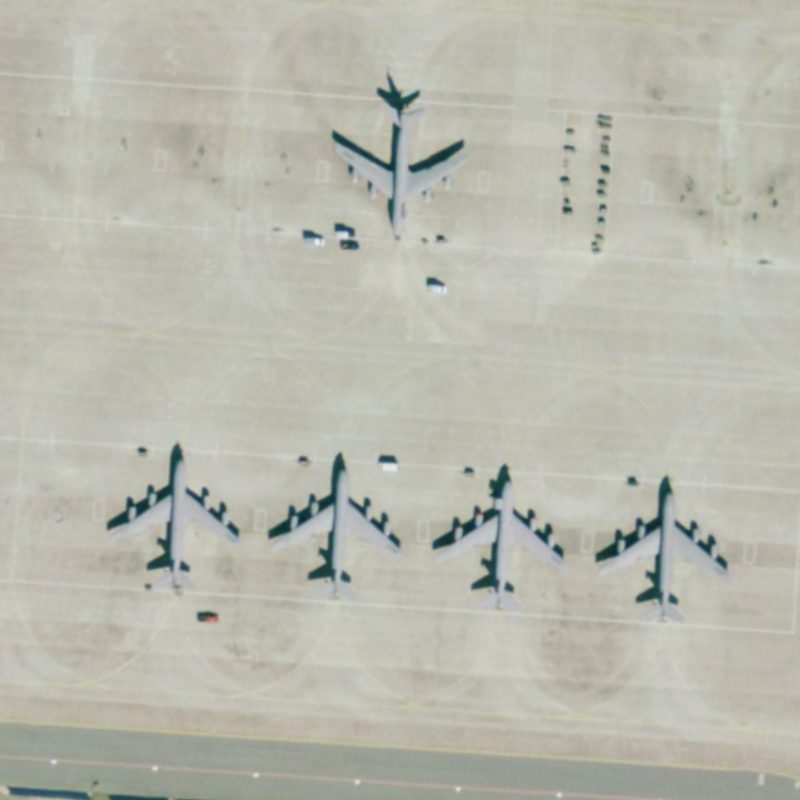A14: (325, 98, 472, 244), (587, 479, 736, 617), (98, 444, 243, 584), (260, 456, 406, 592), (422, 471, 571, 598)
